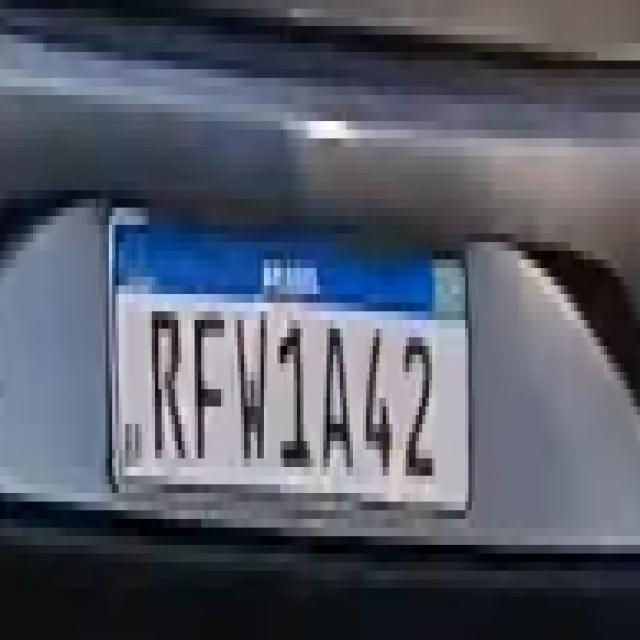Placa_mercosul_carro: (106, 200, 469, 510)
